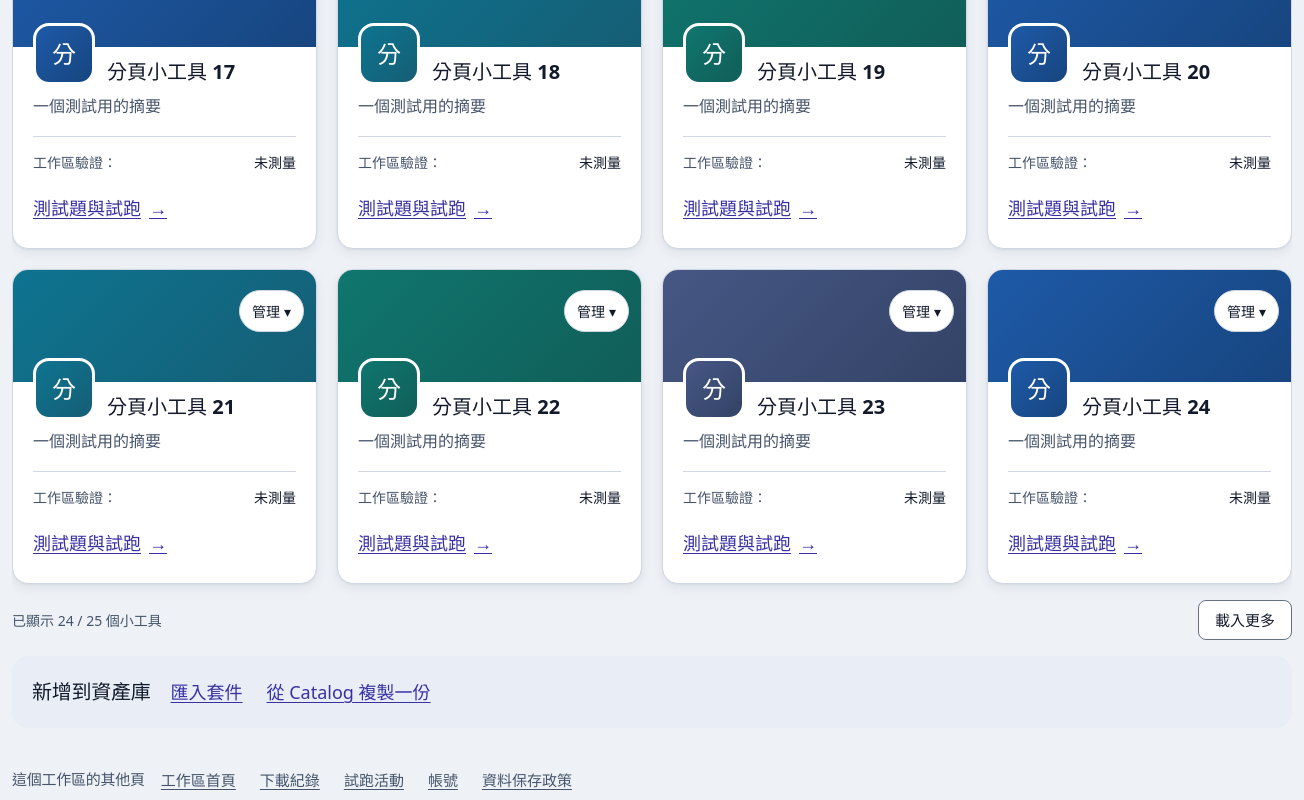
the library loads every owner skill page without duplicating the existing cards
(page scrolled)
Step 1. Click the button "載入更多" → (1245, 620), box [1198,600,1292,640]
(page scrolled)
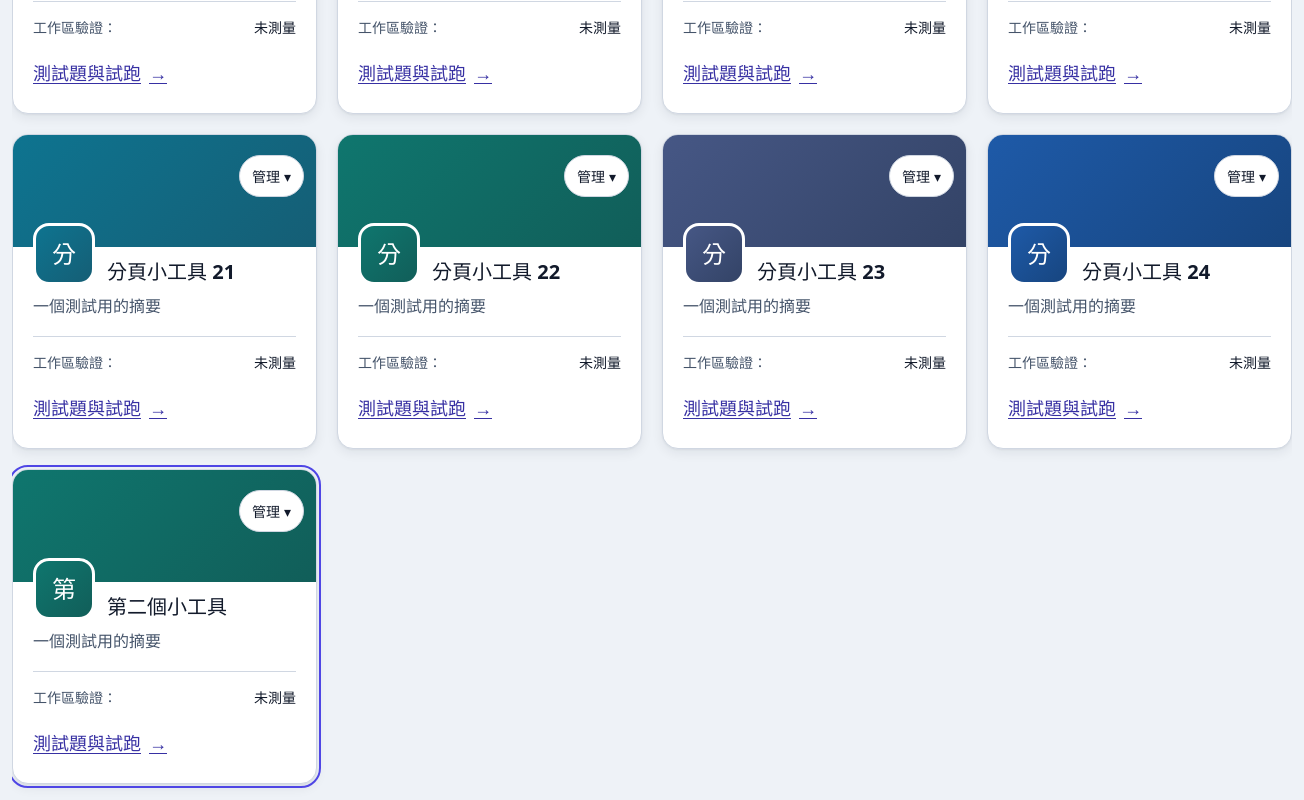
Expected: the text "第二個小工具" is shown, [107,594,227,620]
